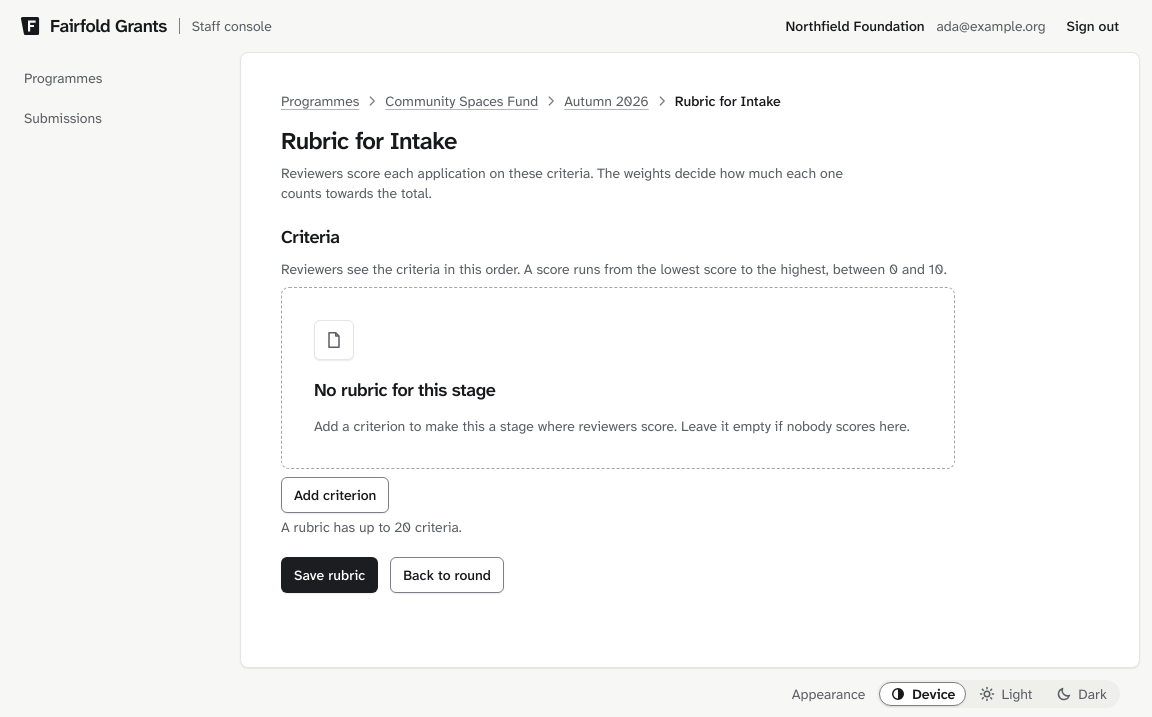
it: the rubric of a stage › adds a criterion with the usual scale and puts the cursor in it
Expected: the heading "Rubric for Intake" is shown, [281,125,457,157]
Expected: the heading "No rubric for this stage" is shown, [314,376,495,404]
Click the button "Add criterion": [335, 495] box [281,477,389,513]
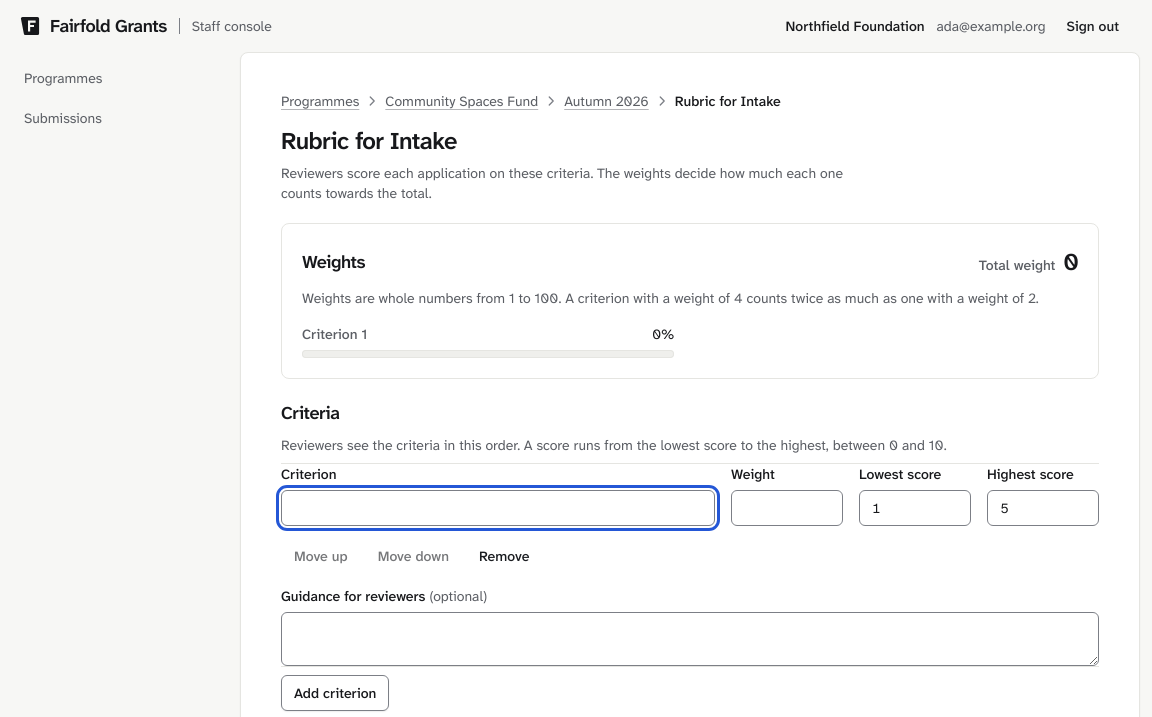
Expected: the field labelled "Lowest score" holds "1", [859,490,971,526]
Expected: the field labelled "Highest score" holds "5", [987,490,1099,526]
